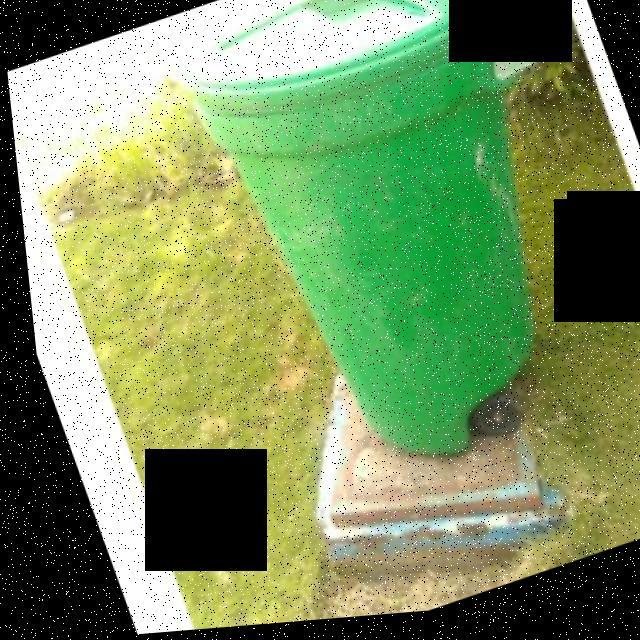bin: (141, 0, 640, 524)
